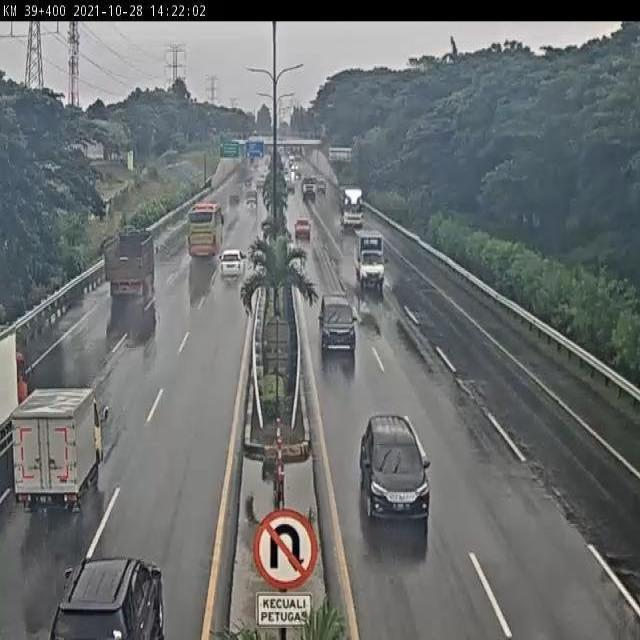Bus: (178, 199, 227, 267)
Car: (50, 551, 178, 640), (351, 414, 438, 537), (315, 288, 359, 371), (213, 245, 250, 284), (292, 216, 316, 242), (316, 175, 327, 196), (288, 165, 302, 176)
Truck: (105, 224, 159, 316), (352, 228, 391, 296), (334, 188, 366, 230), (301, 172, 317, 203), (243, 190, 262, 211)
